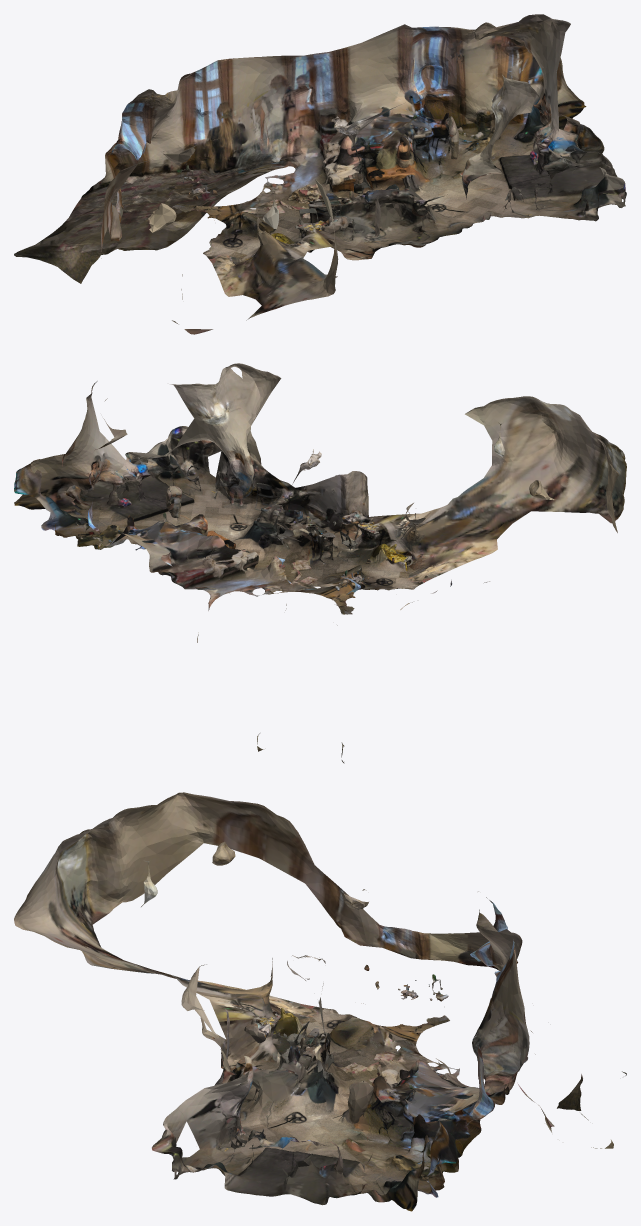
The model's file is scan.glb.
3 renders of one model, top to bottom at view 1: azimuth 30°, elevation 25°; view 2: azimuth 150°, elevation 25°; view 3: azimuth 270°, elevation 25°, orthographic. The views are drawn at different scales.
Bounding box in the file's own units: 5.8 × 2.39 × 4.86.
1 material, 1 textured.
